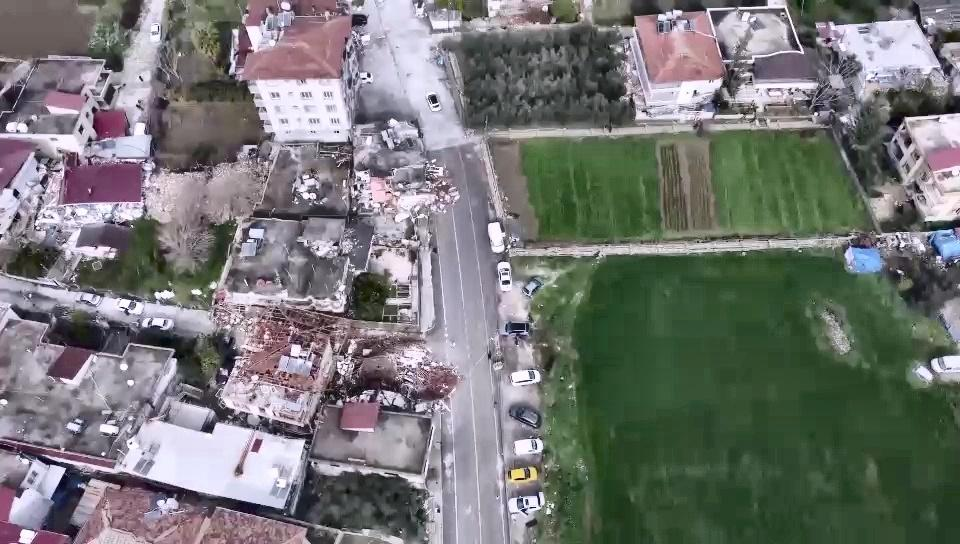kapali: (184, 307, 437, 374)
